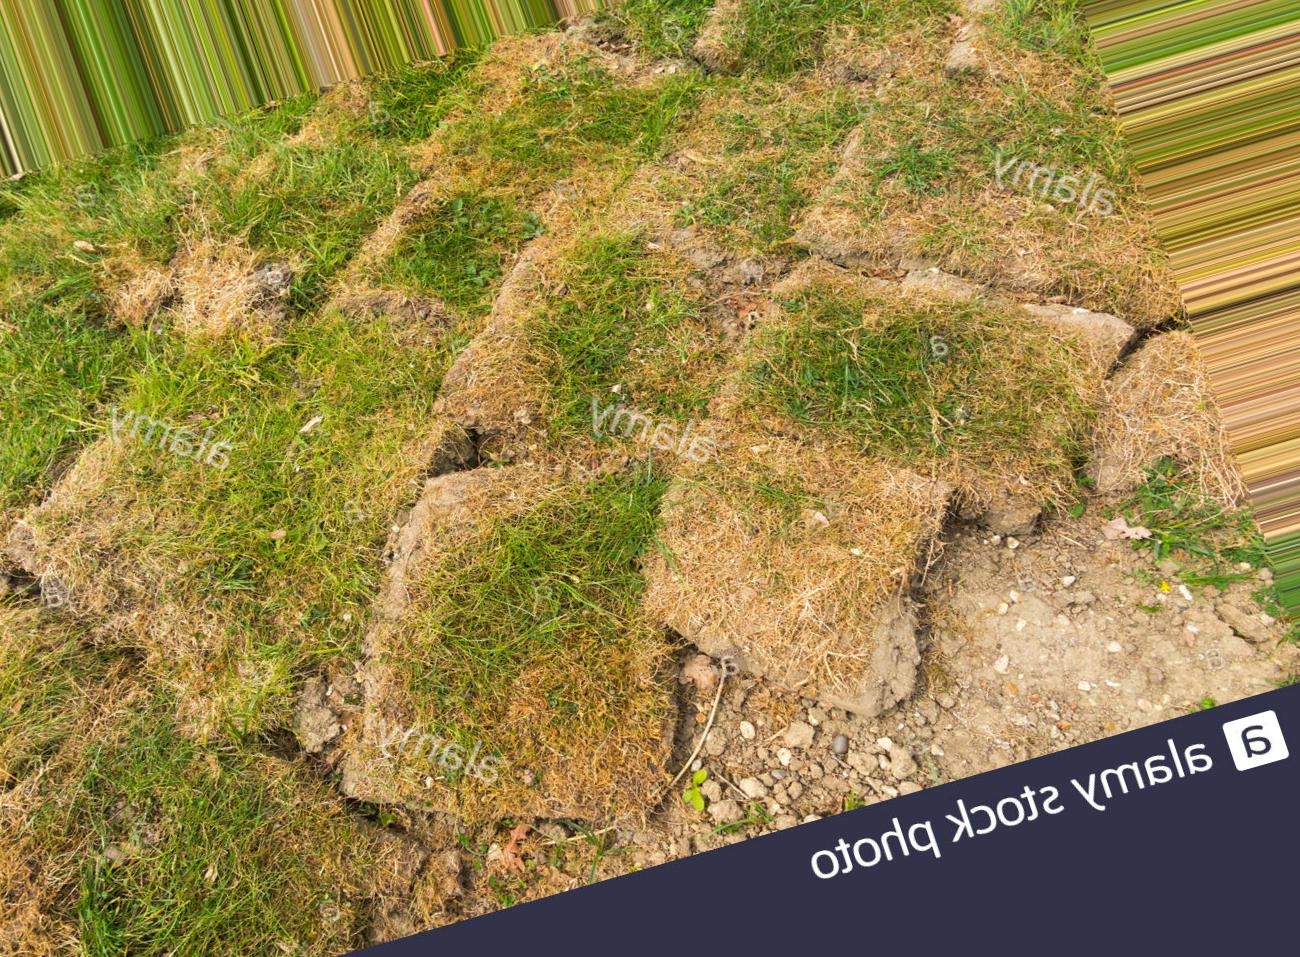patch: (697, 426, 889, 678), (960, 549, 1188, 716), (387, 732, 845, 811), (1132, 353, 1226, 508), (31, 478, 127, 605)
